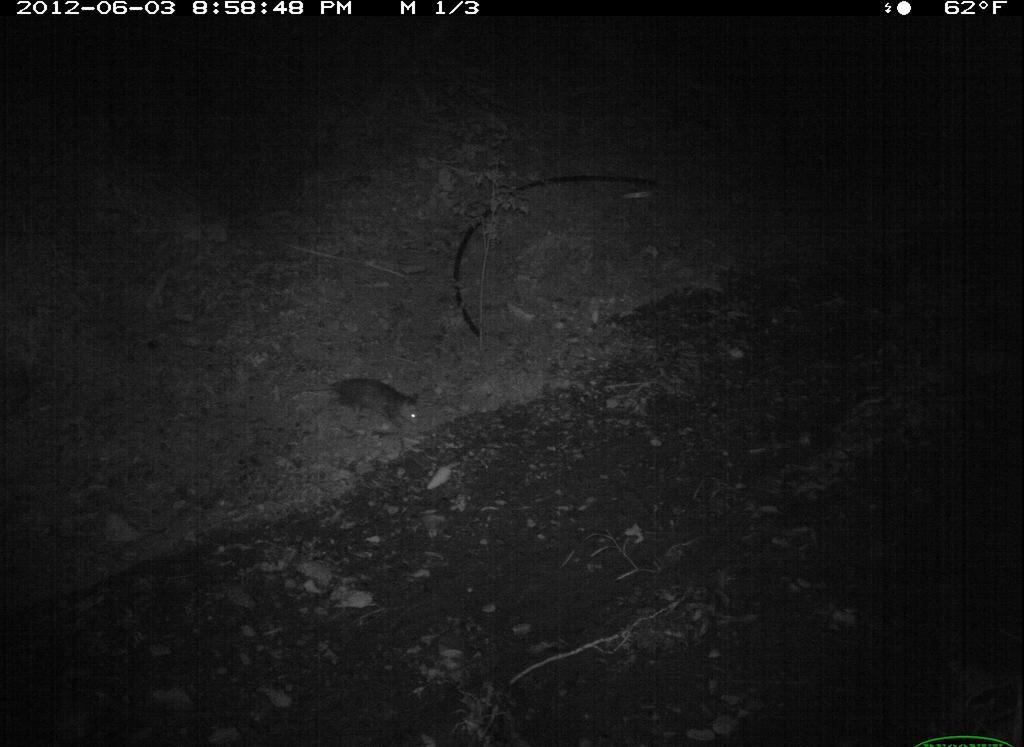opossum: (324, 370, 433, 455)
